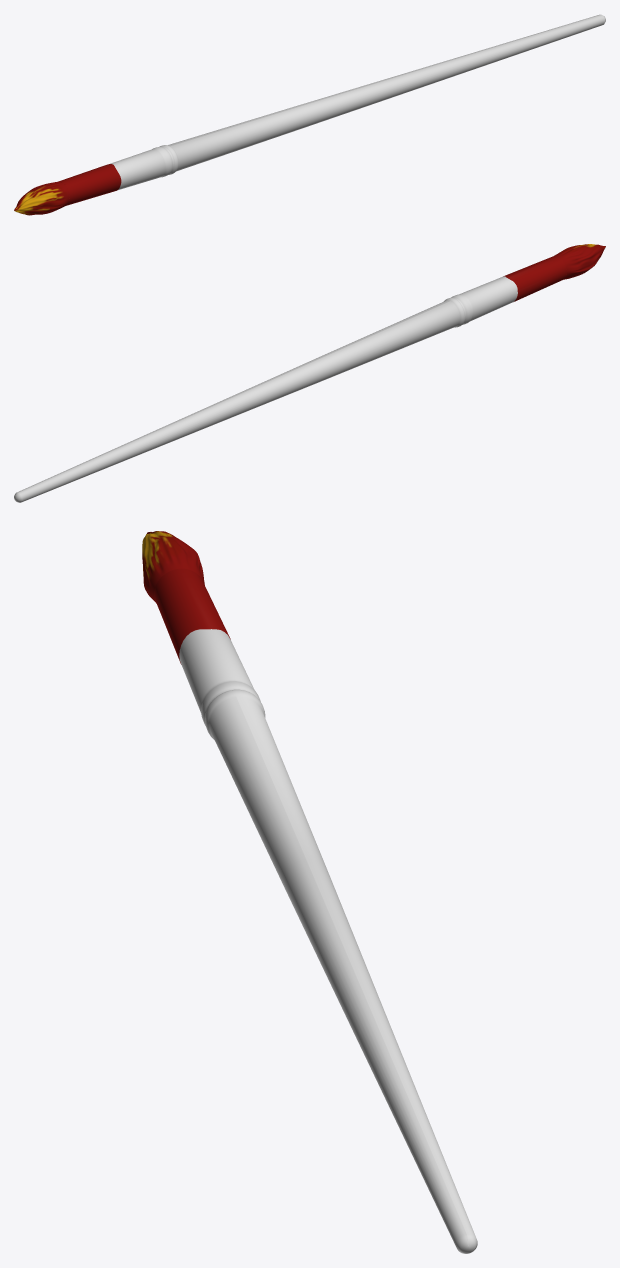
File: oldPaintBrush.fbx
The picture shows the model from 3 angles, top to bottom: view 1: azimuth 30°, elevation 25°; view 2: azimuth 210°, elevation 25°; view 3: azimuth 270°, elevation 25°; orthographic projection. The views are drawn at different scales.
Visible parts, largest first — view 1: Old paint brush; view 2: Old paint brush; view 3: Old paint brush.
Part boxes in pixels (x1,y1,x2,y2): Old paint brush: [14, 14, 605, 215]; Old paint brush: [14, 244, 605, 502]; Old paint brush: [142, 531, 477, 1253].
Size of the model in its own units: 13.75 by 0.9151 by 2.98.
